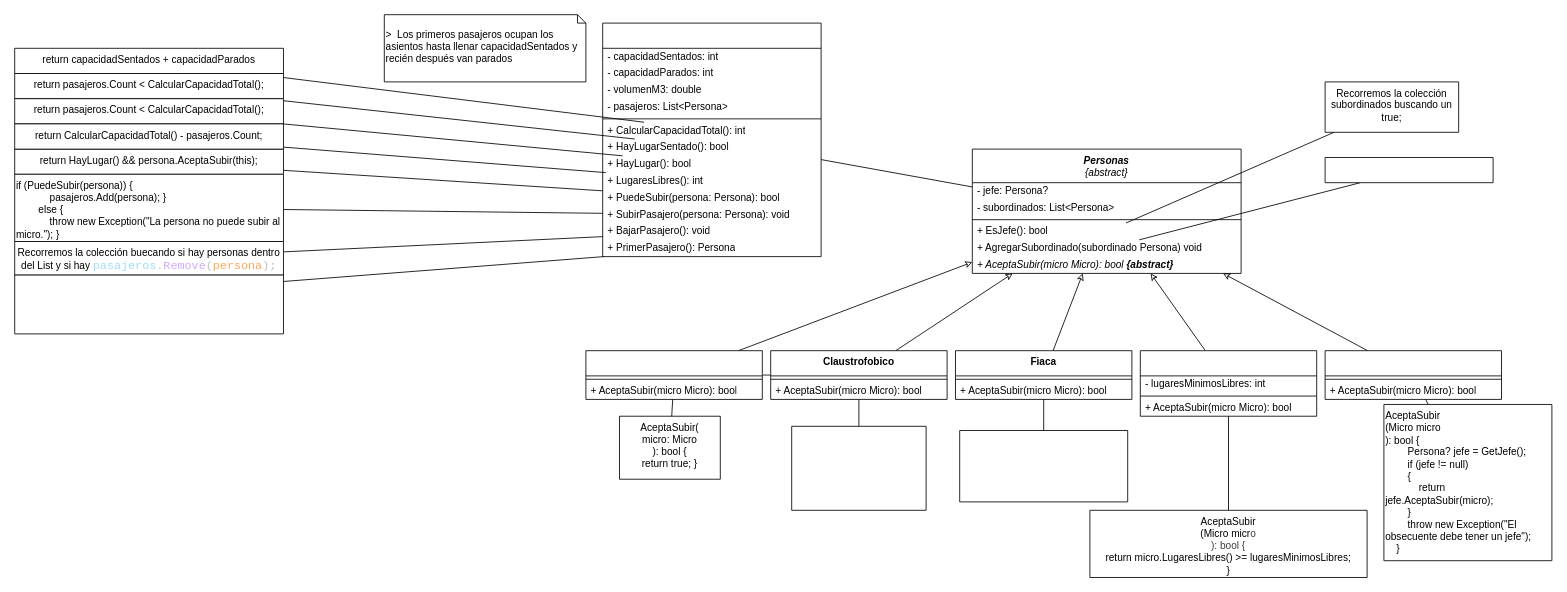
The diagram is 1567 pixels wide and 592 high, and some of its shapes have lost their labels. The shapes that lost their labels are listed below. From the top down, each one's box as (x1, y1, x2, y2) in pixels, then its label:
(602, 22, 821, 257): Micro
(1324, 157, 1493, 183): subordinados:Add(subordinado);
(14, 274, 284, 334): foreach (Persona pasajero in pasajeros) { return pasajero; } return null;
(585, 350, 762, 399): Apurado
(1139, 350, 1317, 416): Moderado
(1324, 350, 1502, 399): Obsecuente
(791, 425, 926, 510): AceptaSubir( Micro micro ) bool { return micro.GetVolumenM3() > 120;}
(959, 430, 1128, 502): AceptaSubirMicro( Micro micro ): bool { return micro.HayLugarSentado(); }
